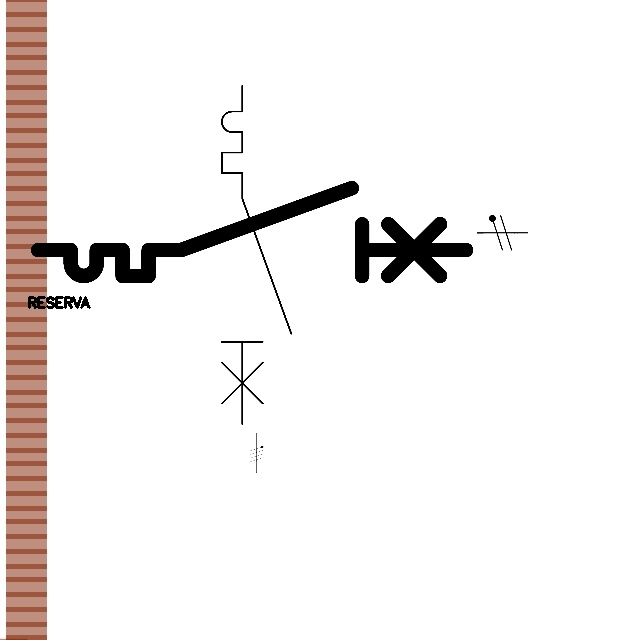interruptor_termomagnetico: (27, 177, 477, 287), (213, 77, 300, 432)
